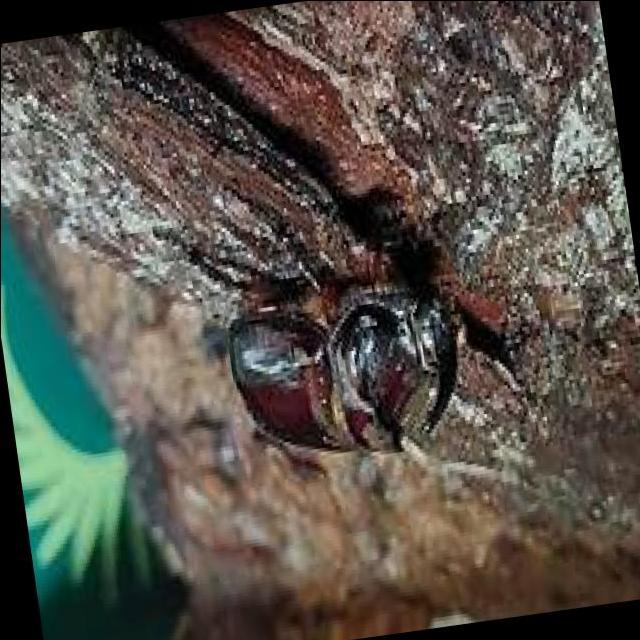Rhino-beetle: (164, 254, 520, 472)
